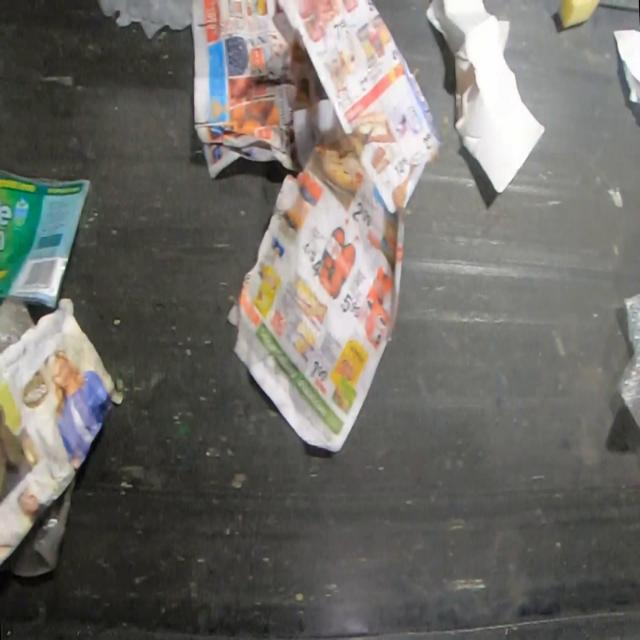soft_plastic: (0, 298, 75, 577), (0, 163, 95, 313), (616, 291, 640, 431)
